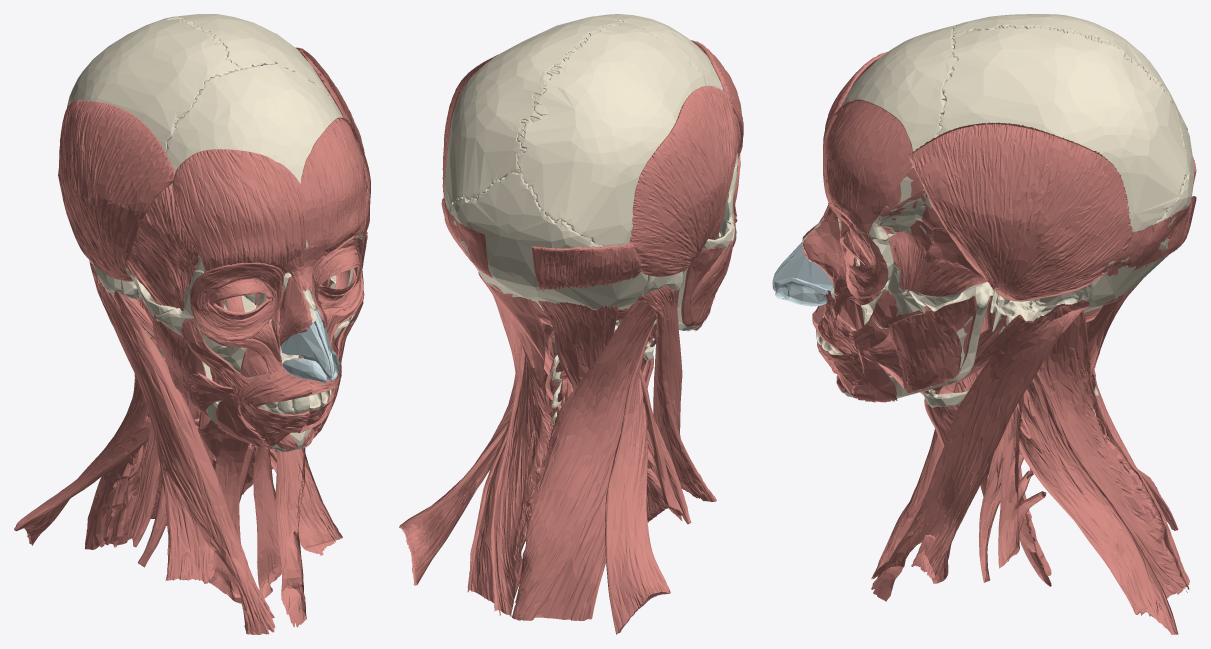
Rendered from internal-anatomy.glb.
The picture shows the model from 3 angles, left to right: view 1: azimuth 30°, elevation 25°; view 2: azimuth 150°, elevation 25°; view 3: azimuth 270°, elevation 25°; orthographic projection. The views are drawn at different scales.
Parts seen in each view (by area): view 1: Sternocleidomastoid muscle.r, Temporoparietalis muscle.r, Frontalis muscle.r, Frontal bone, Parietal bone.r, Frontalis muscle.l, Sternocleidomastoid muscle.l, Temporalis muscle.r, Parietal bone.l, Orbital part of orbicularis oculi.r, Levator scapulae.r, Orbicularis oris muscle.r (+30 smaller); view 2: Parietal bone.r, Splenius capitis muscle.r, Temporoparietalis muscle.r, Parietal bone.l, Occipital bone, Levator scapulae.r, Splenius capitis muscle.l, Sternocleidomastoid muscle.r, Levator scapulae.l, Splenius colli muscle.r, Occipitalis muscle.r, Spinalis capitis muscle.r (+13 smaller); view 3: Temporoparietalis muscle.l, Parietal bone.l, Sternocleidomastoid muscle.l, Splenius capitis muscle.l, Levator scapulae.l, Frontal bone, Frontalis muscle.l, Temporalis muscle.l, Superficial part of masseter.l, Scalenus medius muscle.l, Parietal bone.r, Occipital bone (+23 smaller).
Part boxes in pixels (box(x1,y1,x2,y2)): Sternocleidomastoid muscle.r: box(89, 260, 274, 634); Temporoparietalis muscle.r: box(59, 100, 175, 281); Frontalis muscle.r: box(172, 149, 306, 273); Frontal bone: box(165, 63, 363, 273); Parietal bone.r: box(67, 16, 240, 152); Frontalis muscle.l: box(300, 117, 370, 266); Sternocleidomastoid muscle.l: box(275, 448, 342, 627); Temporalis muscle.r: box(125, 185, 198, 310); Parietal bone.l: box(167, 14, 341, 114); Orbital part of orbicularis oculi.r: box(190, 262, 283, 340); Levator scapulae.r: box(14, 357, 165, 545); Orbicularis oris muscle.r: box(236, 364, 312, 433); Parietal bone.r: box(517, 22, 708, 246); Splenius capitis muscle.r: box(512, 292, 670, 620); Temporoparietalis muscle.r: box(628, 85, 738, 276); Parietal bone.l: box(444, 16, 622, 210); Occipital bone: box(449, 172, 647, 309); Levator scapulae.r: box(605, 325, 670, 634); Splenius capitis muscle.l: box(491, 295, 553, 616); Sternocleidomastoid muscle.r: box(636, 285, 716, 520); Levator scapulae.l: box(399, 375, 515, 585); Splenius colli muscle.r: box(534, 453, 615, 621); Occipitalis muscle.r: box(532, 243, 640, 290); Spinalis capitis muscle.r: box(538, 300, 618, 389); Temporoparietalis muscle.l: box(908, 122, 1133, 301); Parietal bone.l: box(915, 25, 1188, 275); Sternocleidomastoid muscle.l: box(871, 300, 1089, 601); Splenius capitis muscle.l: box(1037, 305, 1189, 594); Levator scapulae.l: box(1017, 373, 1178, 634); Frontal bone: box(834, 25, 957, 240); Frontalis muscle.l: box(823, 99, 912, 234); Temporalis muscle.l: box(877, 168, 986, 296); Superficial part of masseter.l: box(888, 306, 961, 393); Scalenus medius muscle.l: box(998, 395, 1046, 568); Parietal bone.r: box(952, 14, 1187, 130); Occipital bone: box(1026, 115, 1193, 312).
Bounding box in the file's own units: 0.1762 × 0.3263 × 0.2241.
